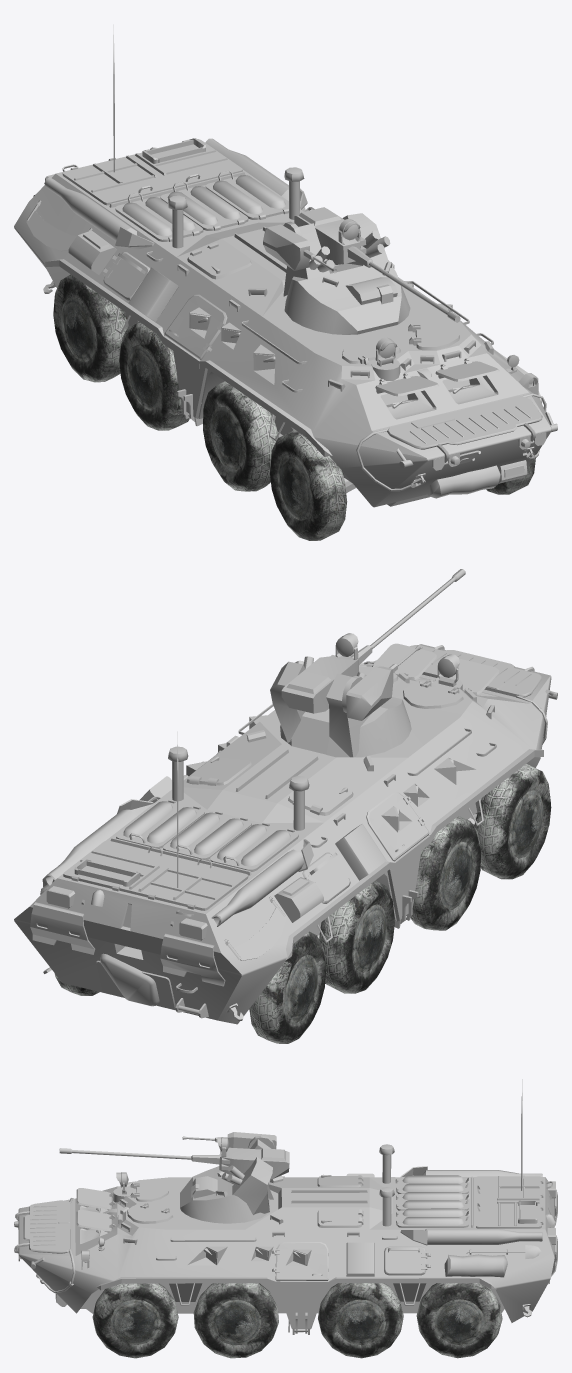
The model's file is BTR.fbx.
3 views of the same model, one above another, from view 1: azimuth 30°, elevation 25°; view 2: azimuth 150°, elevation 25°; view 3: azimuth 270°, elevation 25° (orthographic). The views are drawn at different scales.
Visible parts, largest first — view 1: Mesh29, Wheels (×4), Mesh30, Mesh31, Mesh34, Mesh33; view 2: Mesh29, Wheels (×4), Mesh30, Mesh31, Mesh34, Mesh33; view 3: Mesh29, Wheels (×4), Mesh30, Mesh31, Mesh35, Mesh32.
Part boxes in pixels (x1,y1,x2,y2): Mesh29: (14, 138, 557, 507); Wheels (×4): (53, 274, 347, 540); Mesh30: (283, 213, 410, 334); Mesh31: (263, 207, 460, 322); Mesh34: (164, 294, 227, 359); Mesh33: (163, 336, 207, 421); Mesh29: (14, 643, 557, 1024); Wheels (×4): (249, 763, 551, 1043); Mesh30: (270, 656, 411, 757); Mesh31: (281, 569, 465, 720); Mesh34: (366, 792, 429, 861); Mesh33: (387, 835, 430, 923); Mesh29: (14, 1144, 557, 1334); Wheels (×4): (92, 1283, 502, 1358); Mesh30: (180, 1135, 275, 1223); Mesh31: (59, 1132, 289, 1179); Mesh35: (275, 1242, 328, 1281); Mesh32: (276, 1281, 328, 1333).
Bounding box in the file's own units: 272 × 345 × 714.
